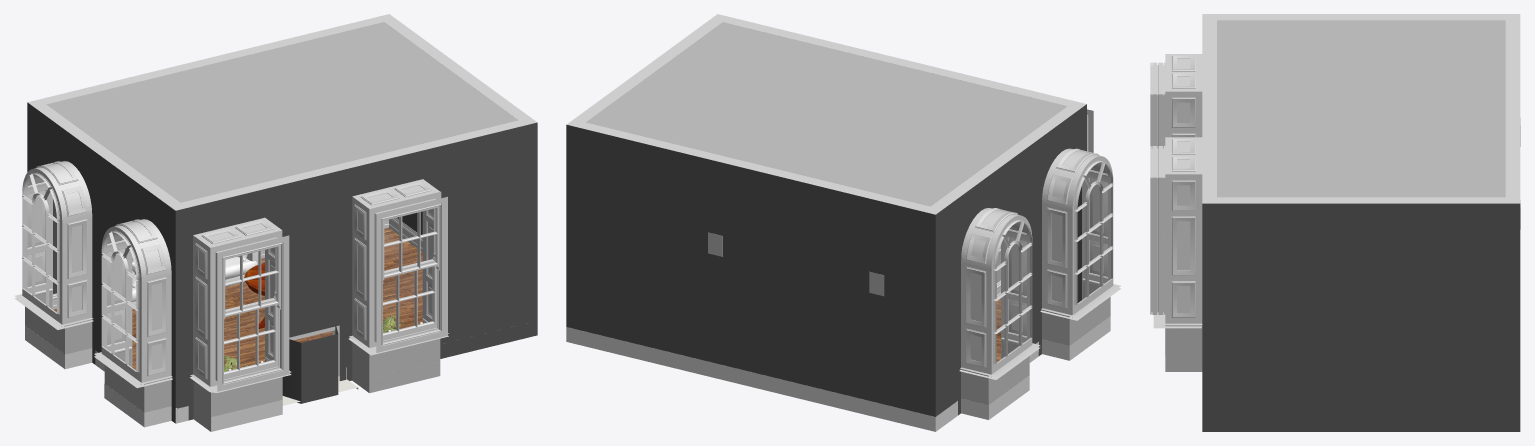
File: living_room_extended.glb
3 views of the same model, side by side, from view 1: azimuth 30°, elevation 25°; view 2: azimuth 150°, elevation 25°; view 3: azimuth 270°, elevation 25° (orthographic). The views are drawn at different scales.
Parts seen in each view (by area): view 1: 33_Walls, 31_MattePaint, 27_Paneling, 00_Paneling, 34_MattePaint, 35_Paneling, 32_Floor, 21_Paneling, 20_Paneling, 16_Paneling, 15_Paneling, 36_Paneling (+6 smaller); view 2: 33_Walls, 31_MattePaint, 27_Paneling, 00_Paneling, 35_Paneling, 36_Paneling, 34_MattePaint; view 3: 33_Walls, 31_MattePaint, 35_Paneling, 21_Paneling, 16_Paneling, 20_Paneling, 34_MattePaint, 15_Paneling.
Boxes of the visible parts, x1,y1,x2,y2 form: 33_Walls: (27,102,537,423); 31_MattePaint: (46,22,518,202); 27_Paneling: (94,219,177,423); 00_Paneling: (14,161,93,329); 34_MattePaint: (25,291,440,431); 35_Paneling: (28,14,536,210); 32_Floor: (53,227,422,370); 21_Paneling: (348,179,448,355); 20_Paneling: (369,191,447,352); 16_Paneling: (190,217,291,392); 15_Paneling: (210,230,289,391); 36_Paneling: (25,218,422,431); 33_Walls: (566,104,1086,416); 31_MattePaint: (586,22,1067,206); 27_Paneling: (1040,148,1121,320); 00_Paneling: (959,208,1040,379); 35_Paneling: (567,14,1086,214); 36_Paneling: (566,280,1110,431); 34_MattePaint: (961,252,1110,404); 33_Walls: (1202,203,1520,431); 31_MattePaint: (1202,20,1519,203); 35_Paneling: (1202,14,1520,203); 21_Paneling: (1153,137,1202,328); 16_Paneling: (1165,54,1202,137); 20_Paneling: (1150,146,1165,314); 34_MattePaint: (1165,325,1202,371); 15_Paneling: (1150,62,1165,148).
Size of the model in its own units: 5.64 by 2.88 by 4.23.
Materials: 19 (4 with a texture image).
